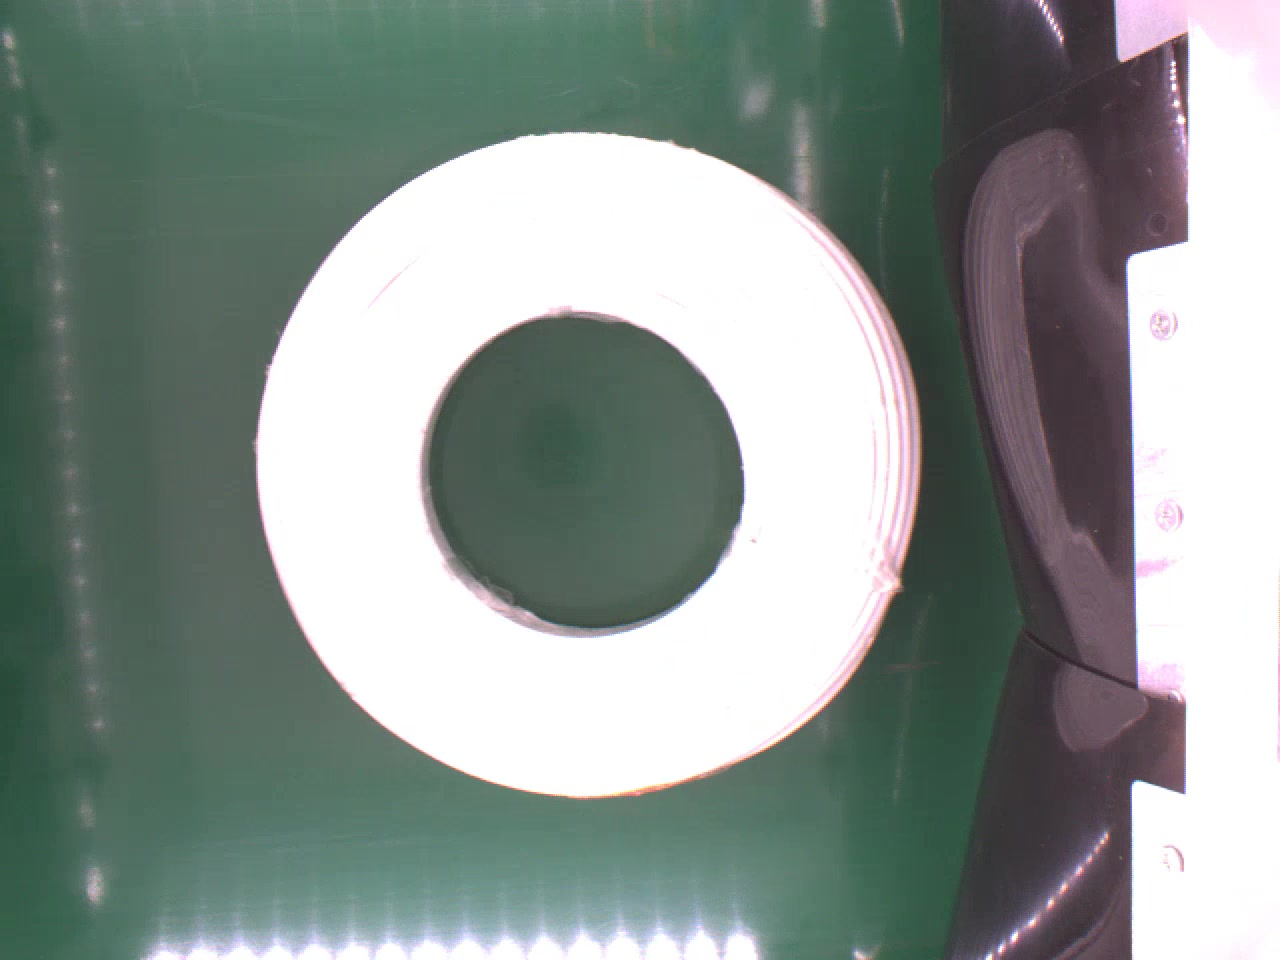white: (251, 127, 921, 800)
